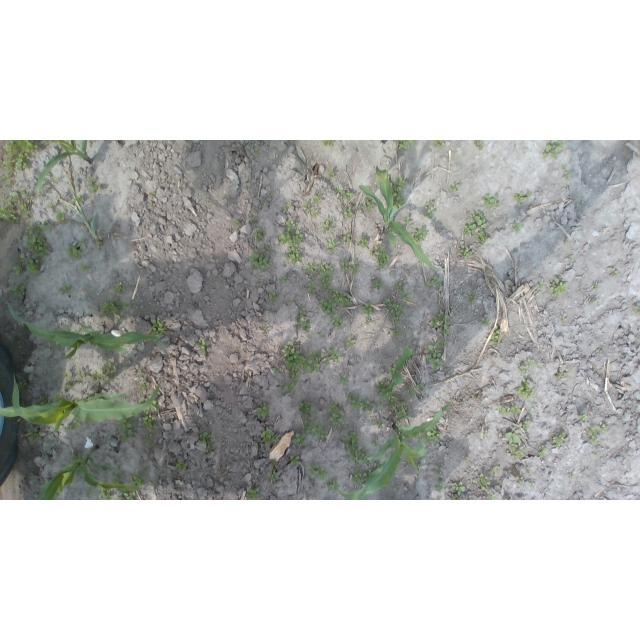Maize: (338, 400, 455, 501), (6, 303, 170, 361), (0, 375, 160, 433), (359, 168, 445, 272), (37, 447, 117, 500), (33, 140, 92, 185), (381, 346, 414, 396)
Weeds: (0, 141, 38, 172), (341, 431, 371, 465), (23, 220, 51, 256), (505, 430, 526, 461), (282, 341, 304, 370), (428, 339, 447, 372), (1, 192, 20, 224), (302, 419, 329, 440), (279, 229, 304, 251), (515, 378, 536, 402), (346, 393, 372, 412), (326, 287, 352, 306), (327, 403, 345, 430), (119, 417, 137, 443), (370, 246, 390, 269), (431, 311, 451, 334), (249, 249, 271, 269), (304, 352, 324, 373), (543, 141, 565, 160), (141, 410, 159, 432), (99, 299, 122, 316), (549, 278, 570, 296), (390, 401, 410, 419), (376, 380, 393, 401), (340, 258, 361, 275), (468, 211, 487, 229), (308, 465, 329, 481), (261, 429, 280, 446), (26, 258, 43, 277), (100, 360, 116, 380), (85, 177, 103, 194), (319, 300, 337, 317), (424, 425, 441, 443), (12, 283, 29, 300), (67, 245, 86, 260), (391, 190, 404, 211), (151, 319, 167, 336), (26, 426, 42, 443), (514, 191, 531, 207), (326, 347, 341, 365), (414, 224, 429, 242), (518, 359, 534, 375), (483, 194, 500, 209), (477, 474, 491, 491), (394, 177, 407, 195), (424, 201, 437, 219), (131, 473, 146, 488), (257, 403, 273, 417), (98, 486, 114, 500), (286, 251, 303, 264), (296, 308, 306, 330), (321, 218, 335, 233), (351, 468, 364, 484), (325, 238, 339, 252), (551, 432, 565, 446), (319, 263, 334, 276), (459, 245, 472, 260), (199, 432, 215, 444), (196, 339, 208, 355), (331, 313, 343, 329), (304, 261, 320, 273), (491, 327, 501, 346), (426, 277, 443, 288), (293, 433, 307, 446), (114, 282, 127, 296), (283, 381, 297, 394), (253, 227, 266, 241), (357, 235, 370, 249), (361, 302, 375, 315), (463, 224, 477, 237), (453, 482, 466, 496), (396, 140, 414, 150), (120, 490, 137, 500), (300, 403, 313, 416), (247, 488, 260, 501), (18, 204, 30, 218), (74, 371, 85, 386), (477, 229, 488, 244), (1, 174, 13, 187), (373, 278, 385, 291), (391, 304, 403, 317), (499, 404, 512, 416), (320, 276, 332, 288), (60, 283, 73, 294), (313, 191, 324, 204), (586, 426, 599, 437), (343, 207, 353, 221), (17, 379, 28, 391), (55, 209, 66, 221), (13, 264, 24, 276), (112, 472, 123, 484), (513, 222, 524, 234), (538, 445, 549, 457), (328, 481, 339, 492), (346, 338, 357, 349), (269, 293, 280, 304), (579, 413, 590, 424), (363, 470, 373, 482), (286, 219, 296, 231), (415, 380, 425, 392), (292, 368, 301, 381), (304, 318, 313, 331), (177, 460, 187, 471), (204, 445, 214, 456), (144, 434, 154, 445), (268, 471, 279, 481), (339, 375, 349, 386), (137, 381, 149, 390), (291, 455, 300, 467), (448, 184, 460, 193), (599, 422, 608, 434), (588, 436, 600, 445), (436, 464, 443, 479), (39, 395, 49, 405), (467, 293, 477, 303), (415, 457, 425, 467), (308, 283, 317, 294), (364, 202, 375, 211), (391, 328, 402, 337), (407, 388, 416, 399), (474, 141, 485, 150), (387, 394, 399, 402), (342, 192, 354, 200), (54, 393, 64, 402), (382, 298, 392, 307), (512, 406, 522, 415), (437, 482, 446, 492), (568, 472, 577, 482), (61, 372, 72, 380), (403, 217, 411, 228), (43, 141, 60, 146), (304, 200, 311, 212), (432, 141, 444, 148), (328, 167, 335, 179), (321, 140, 335, 146), (35, 188, 44, 197), (50, 176, 59, 185), (377, 421, 386, 430), (537, 282, 546, 291), (75, 195, 85, 203), (79, 263, 89, 271), (63, 423, 73, 431), (343, 234, 351, 244), (396, 283, 404, 293), (273, 367, 284, 374), (563, 172, 572, 180), (22, 190, 31, 198), (71, 454, 79, 463), (262, 244, 271, 252), (283, 204, 291, 213), (402, 292, 410, 301), (482, 318, 491, 326), (491, 467, 499, 476), (611, 268, 618, 278), (633, 305, 640, 315), (92, 369, 99, 379), (64, 382, 74, 389), (374, 461, 384, 468), (370, 415, 377, 425), (523, 421, 530, 431), (593, 283, 601, 291), (73, 420, 81, 428), (376, 401, 385, 408), (365, 194, 374, 201), (151, 400, 157, 410), (123, 302, 131, 309), (372, 439, 379, 447), (312, 210, 319, 218), (536, 363, 544, 370), (560, 316, 569, 322), (149, 190, 155, 199), (261, 325, 270, 331), (279, 278, 289, 283), (86, 489, 93, 496), (51, 201, 58, 208), (251, 218, 258, 225), (489, 493, 496, 500), (137, 369, 143, 377), (153, 480, 159, 488), (232, 219, 240, 225), (259, 201, 265, 209), (334, 186, 342, 192), (392, 316, 398, 324), (78, 238, 87, 243), (557, 374, 564, 380), (254, 148, 260, 155), (273, 461, 279, 468), (365, 319, 372, 325), (519, 477, 525, 484), (590, 300, 598, 305), (395, 421, 401, 427), (22, 307, 28, 313), (139, 397, 145, 403), (149, 202, 155, 208), (203, 423, 209, 429), (257, 279, 263, 285), (355, 205, 361, 211), (483, 431, 489, 437), (48, 340, 53, 347), (600, 347, 605, 353), (95, 380, 100, 386), (289, 299, 295, 304), (465, 457, 470, 463), (375, 176, 379, 183), (298, 168, 303, 173), (311, 276, 316, 281), (454, 496, 459, 501), (526, 470, 532, 474), (531, 483, 535, 489), (564, 372, 569, 376), (592, 365, 596, 370), (562, 164, 567, 168), (569, 254, 574, 258), (453, 150, 457, 154), (458, 398, 461, 401), (148, 396, 151, 399), (504, 499, 508, 500)
